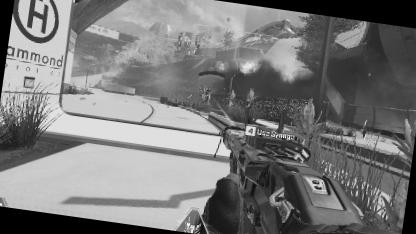Target: (199, 85, 209, 100)
